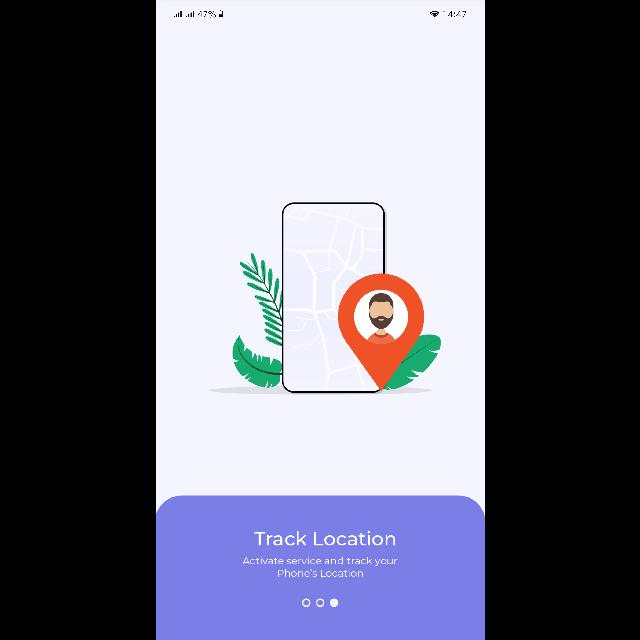image: (208, 202, 440, 394)
pageindicator: (302, 598, 338, 608)
text: (242, 557, 396, 577), (253, 530, 394, 546)
uppertaskbar: (172, 10, 466, 18)
